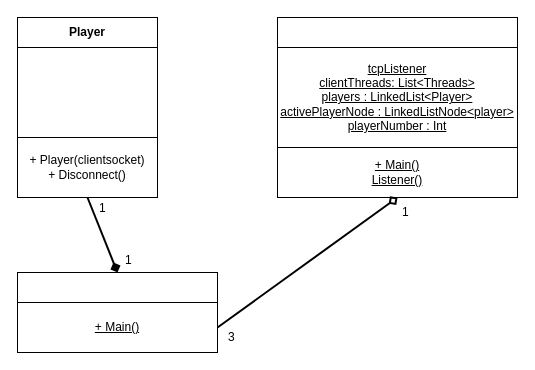
This 535x370 diagram has some shape labels left out. The centre of each missing label's shape, as x and y in pixels:
"+ secretNumber: Int + streamwriter + streamreader + clientsocket + flag: Bool" goes at (87,92).
"GameServer" goes at (397,32).
"MT_Client" goes at (117,287).
